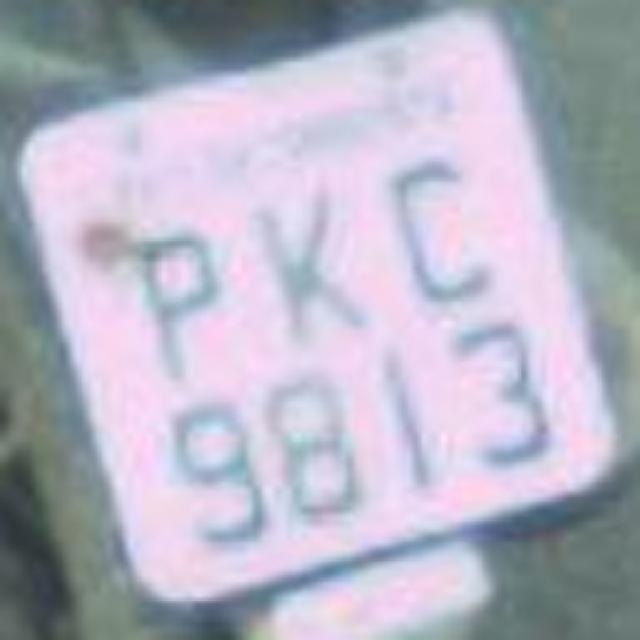1: (360, 320, 465, 508)
3: (424, 292, 571, 488)
8: (252, 348, 380, 548)
9: (145, 372, 280, 560)
C: (368, 140, 512, 300)
P: (111, 200, 244, 388)
